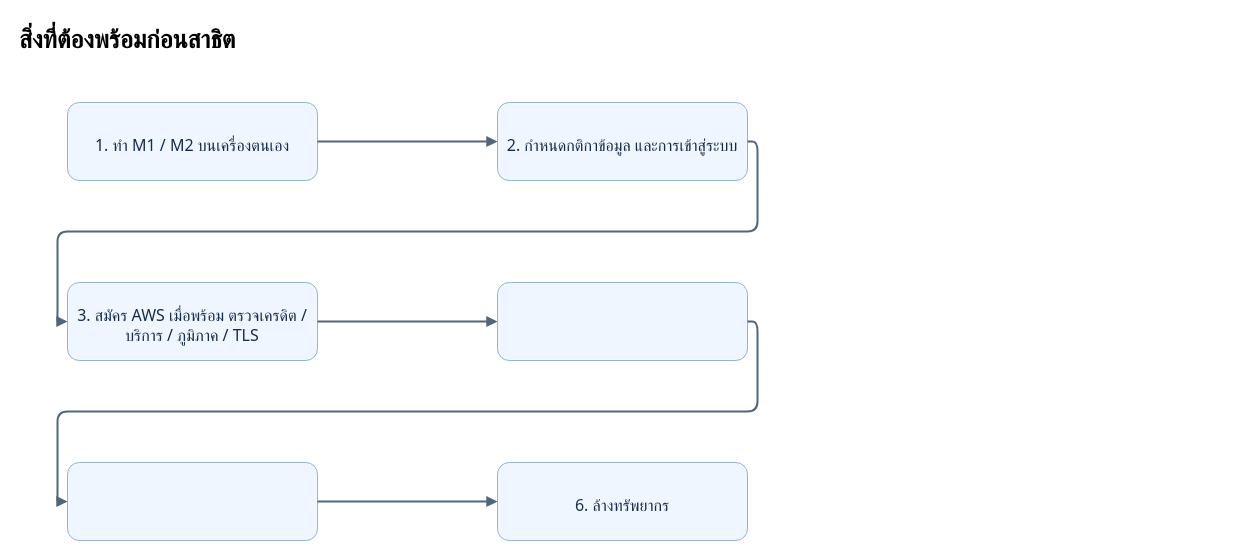
This 1234x558 diagram has some shape labels left out. The shapes that lost their labels are listed below. From the top down, each one's centre as x and y in pixels, then its label:
At point (622, 321): "4. ขึ้นระบบและวัดผล".
At point (192, 501): "5. ซ้อมและเก็บหลักฐาน".
